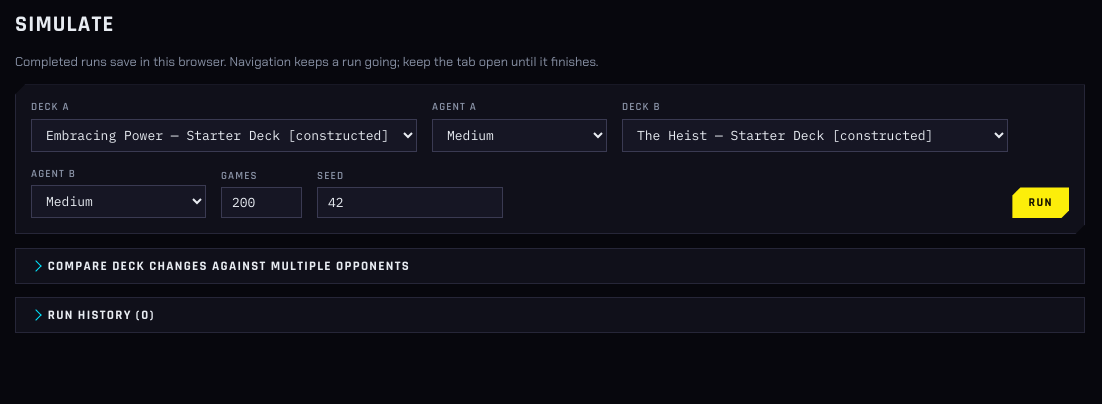
Scenario: SimulateView — worker failure (fix round 1) › the worker's own onerror (a failure it never got to catch) is handled the same way
Click the button with test id "sim-run" at coordinates (1041, 203), box [1012,188,1069,218]
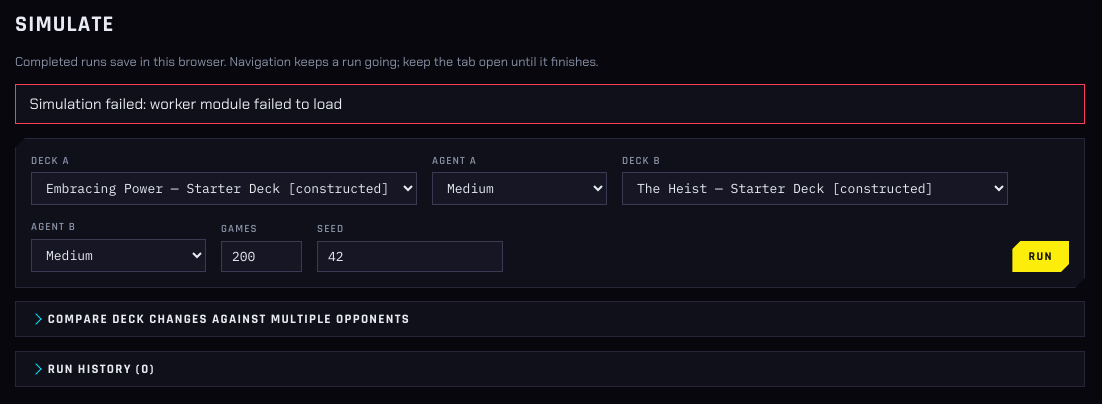
Check: the button with test id "sim-run" is enabled, box [1012,241,1069,272]
Check: the message with test id "sim-error" shows "worker module failed to load", box [150,94,342,114]
